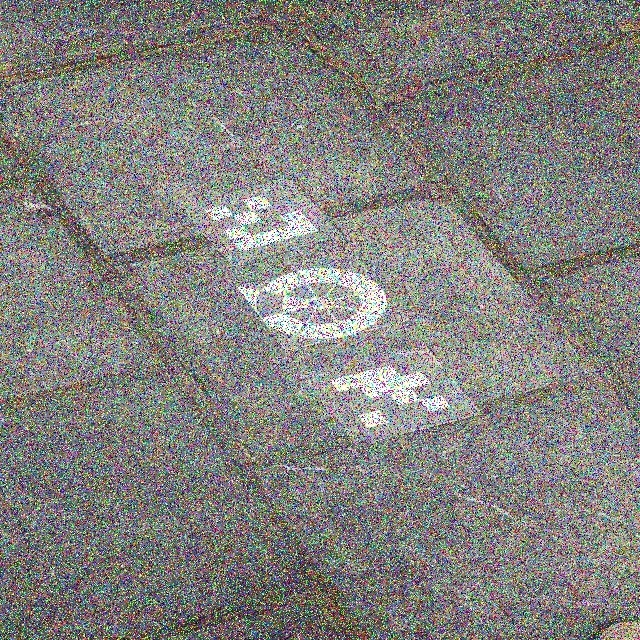landing-zone: (237, 265, 401, 352)
